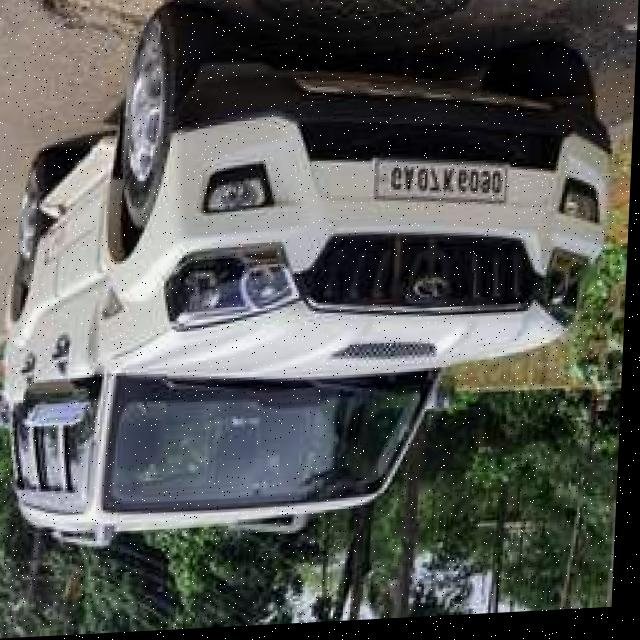plate: (373, 156, 511, 216)
